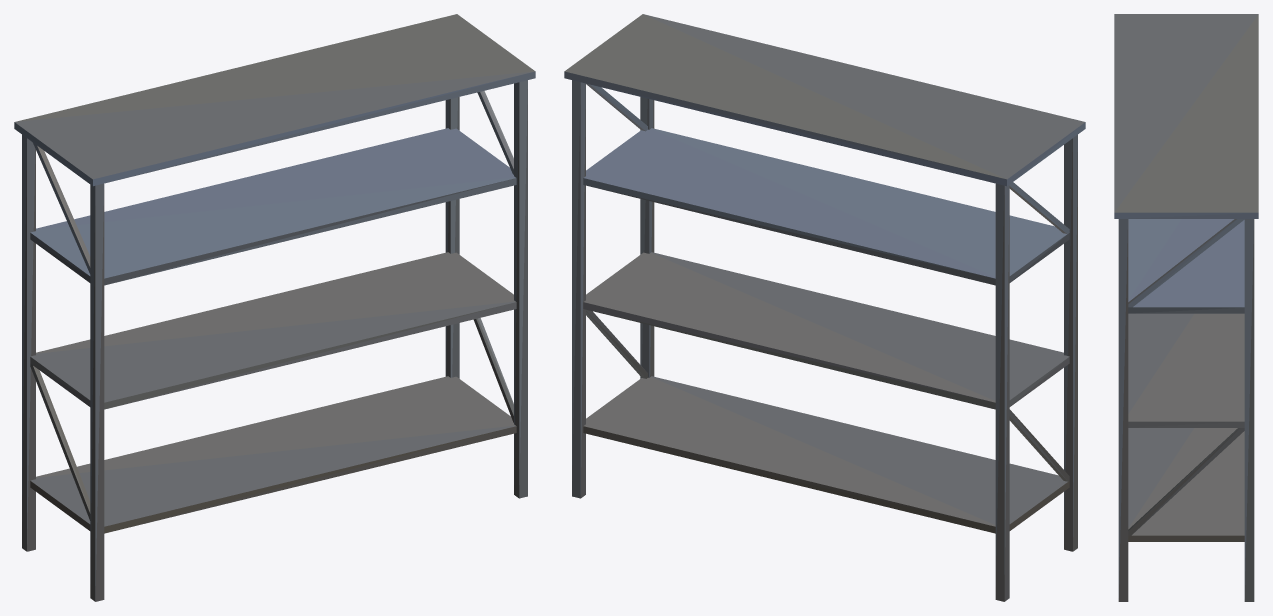
Rendered from gs_metal_shelf.glb.
3 renders of one model, left to right at view 1: azimuth 30°, elevation 25°; view 2: azimuth 150°, elevation 25°; view 3: azimuth 270°, elevation 25°, orthographic. The views are drawn at different scales.
Visible parts, largest first — view 1: Shelf_Metal; view 2: Shelf_Metal; view 3: Shelf_Metal.
Boxes of the visible parts, left/top/right/bottom form: Shelf_Metal: left=14, top=14, right=535, bottom=601; Shelf_Metal: left=564, top=14, right=1085, bottom=601; Shelf_Metal: left=1114, top=14, right=1258, bottom=601.
Size of the model in its own units: 2.75 by 2.52 by 0.8428.
